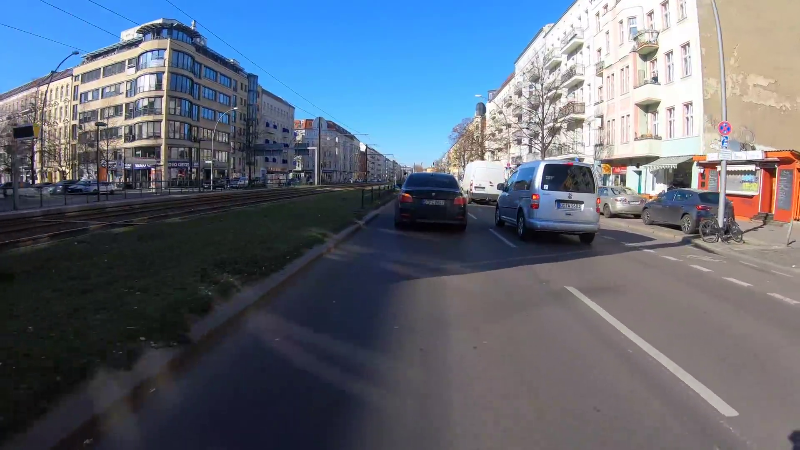Plate: (554, 200, 584, 211), (419, 197, 446, 207), (473, 187, 487, 191)
